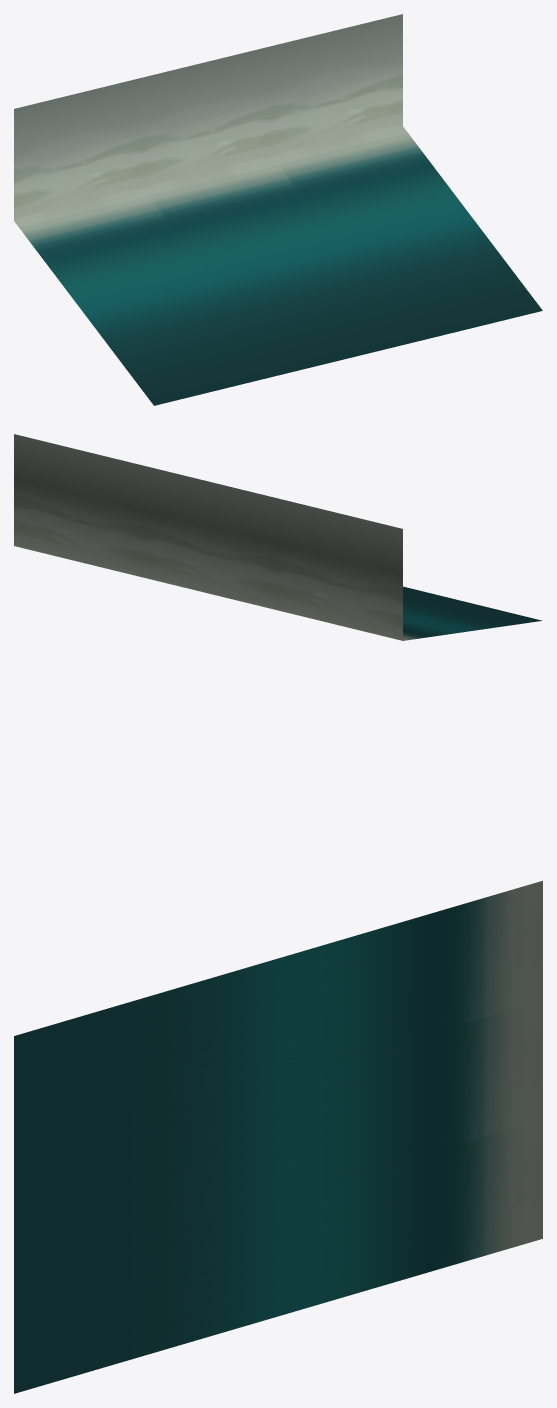
Rendered from battle_101@skin.FBX.
The picture shows the model from 3 angles, top to bottom: view 1: azimuth 30°, elevation 25°; view 2: azimuth 150°, elevation 25°; view 3: azimuth 270°, elevation 25°; orthographic projection. The views are drawn at different scales.
Parts seen in each view (by area): view 1: body; view 2: body; view 3: body.
Part boxes in pixels (<box>): body: <box>14,14,542,405</box>; body: <box>14,434,542,640</box>; body: <box>14,880,542,1393</box>.
Bounding box in the file's own units: 2008 × 960 × 1253.
